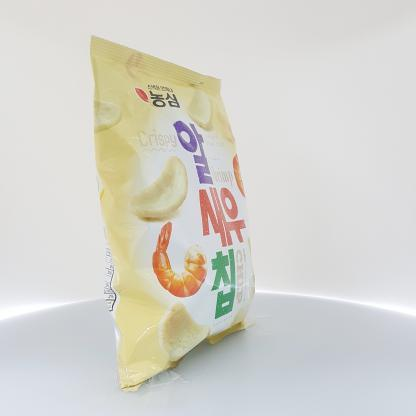Plastic Packaging: (79, 28, 268, 396)
